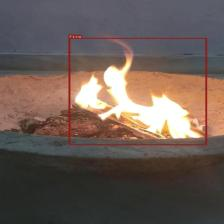fire: (68, 38, 206, 145)
